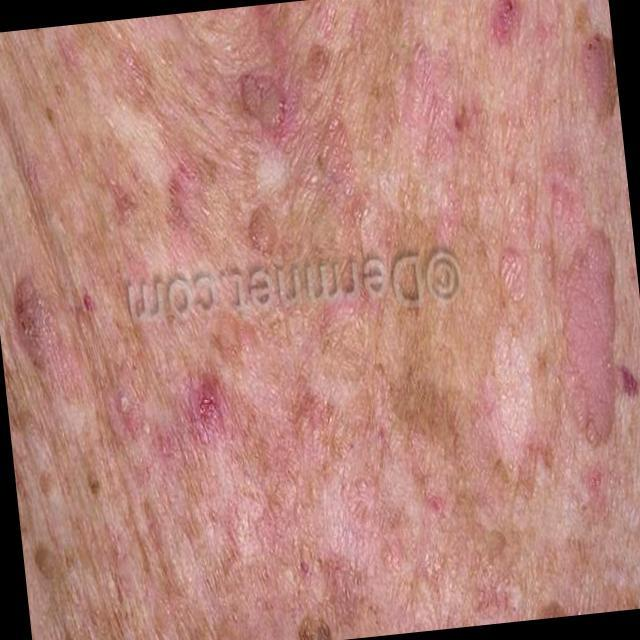Eczema: (0, 0, 634, 603)
